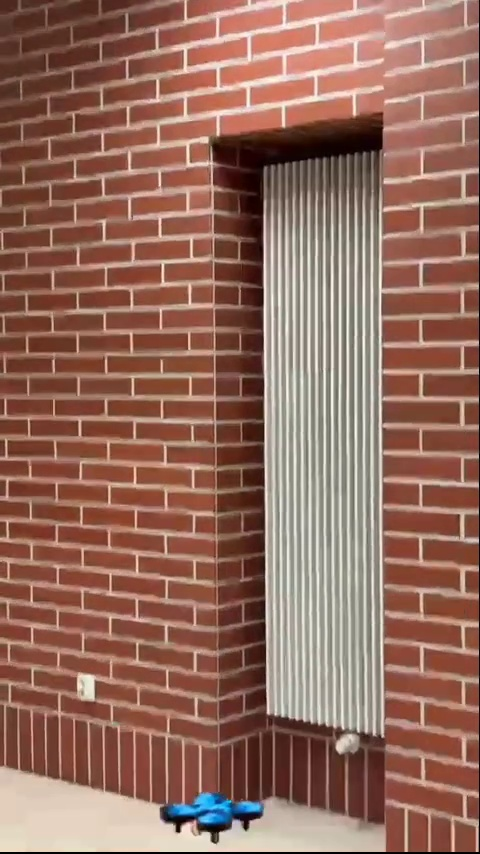drone: (146, 787, 268, 842)
